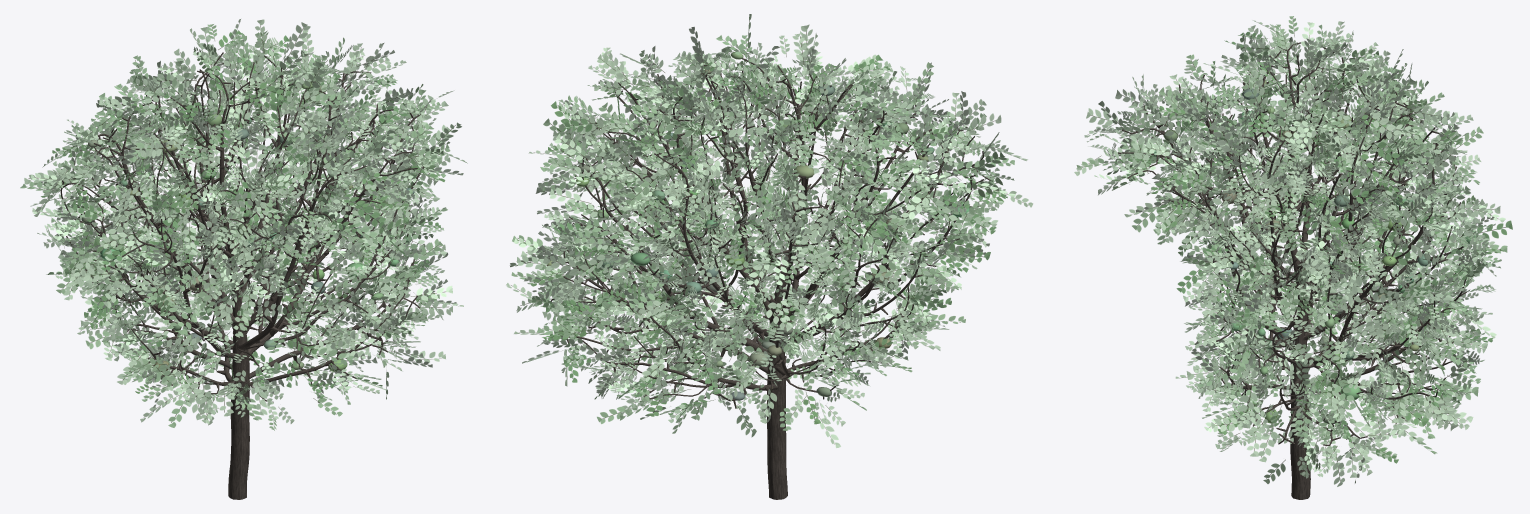
The model's file is tree_51_camphor.glb.
3 renders of one model, left to right at view 1: azimuth 30°, elevation 25°; view 2: azimuth 150°, elevation 25°; view 3: azimuth 270°, elevation 25°, orthographic.
Parts seen in each view (by area): view 1: tree_51_camphor.leaves, tree_51_camphor.trunk_branches, tree_51_camphor.foliage_volume; view 2: tree_51_camphor.leaves, tree_51_camphor.trunk_branches, tree_51_camphor.foliage_volume; view 3: tree_51_camphor.leaves, tree_51_camphor.trunk_branches, tree_51_camphor.foliage_volume.
Boxes of the visible parts, x1=… form: tree_51_camphor.leaves: x1=20, y1=19, x2=467, y2=430; tree_51_camphor.trunk_branches: x1=60, y1=52, x2=424, y2=499; tree_51_camphor.foliage_volume: x1=81, y1=82, x2=414, y2=380; tree_51_camphor.leaves: x1=506, y1=14, x2=1033, y2=447; tree_51_camphor.trunk_branches: x1=551, y1=58, x2=990, y2=499; tree_51_camphor.foliage_volume: x1=546, y1=52, x2=969, y2=400; tree_51_camphor.leaves: x1=1074, y1=16, x2=1512, y2=486; tree_51_camphor.trunk_branches: x1=1118, y1=42, x2=1466, y2=499; tree_51_camphor.foliage_volume: x1=1153, y1=66, x2=1476, y2=424.
Bounding box in the file's own units: 12.07 × 12.03 × 10.6.
3 materials, 2 textured.
